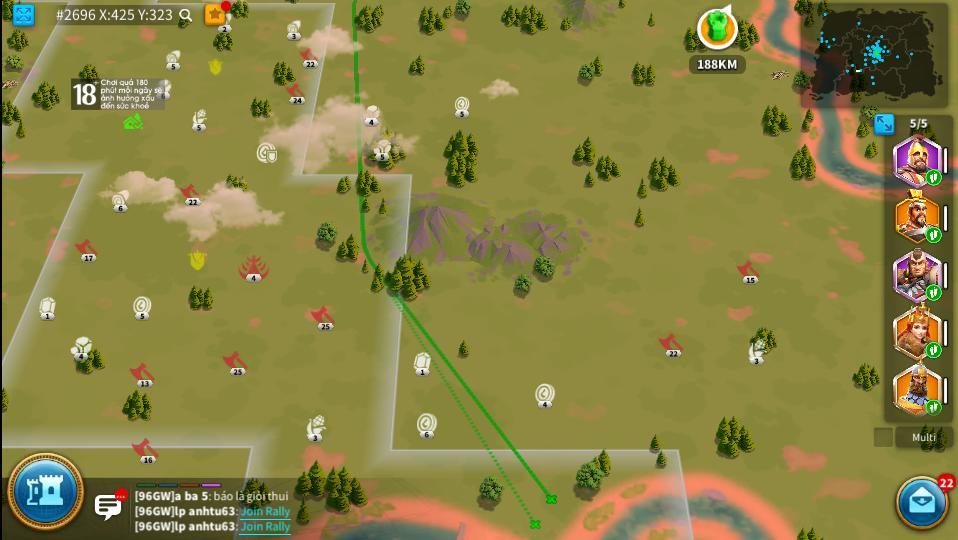gem-z-out: (412, 352, 433, 375), (38, 298, 55, 321)
march_marching: (925, 228, 942, 242), (926, 170, 940, 185), (927, 400, 941, 415), (926, 285, 940, 299), (928, 343, 940, 357)
